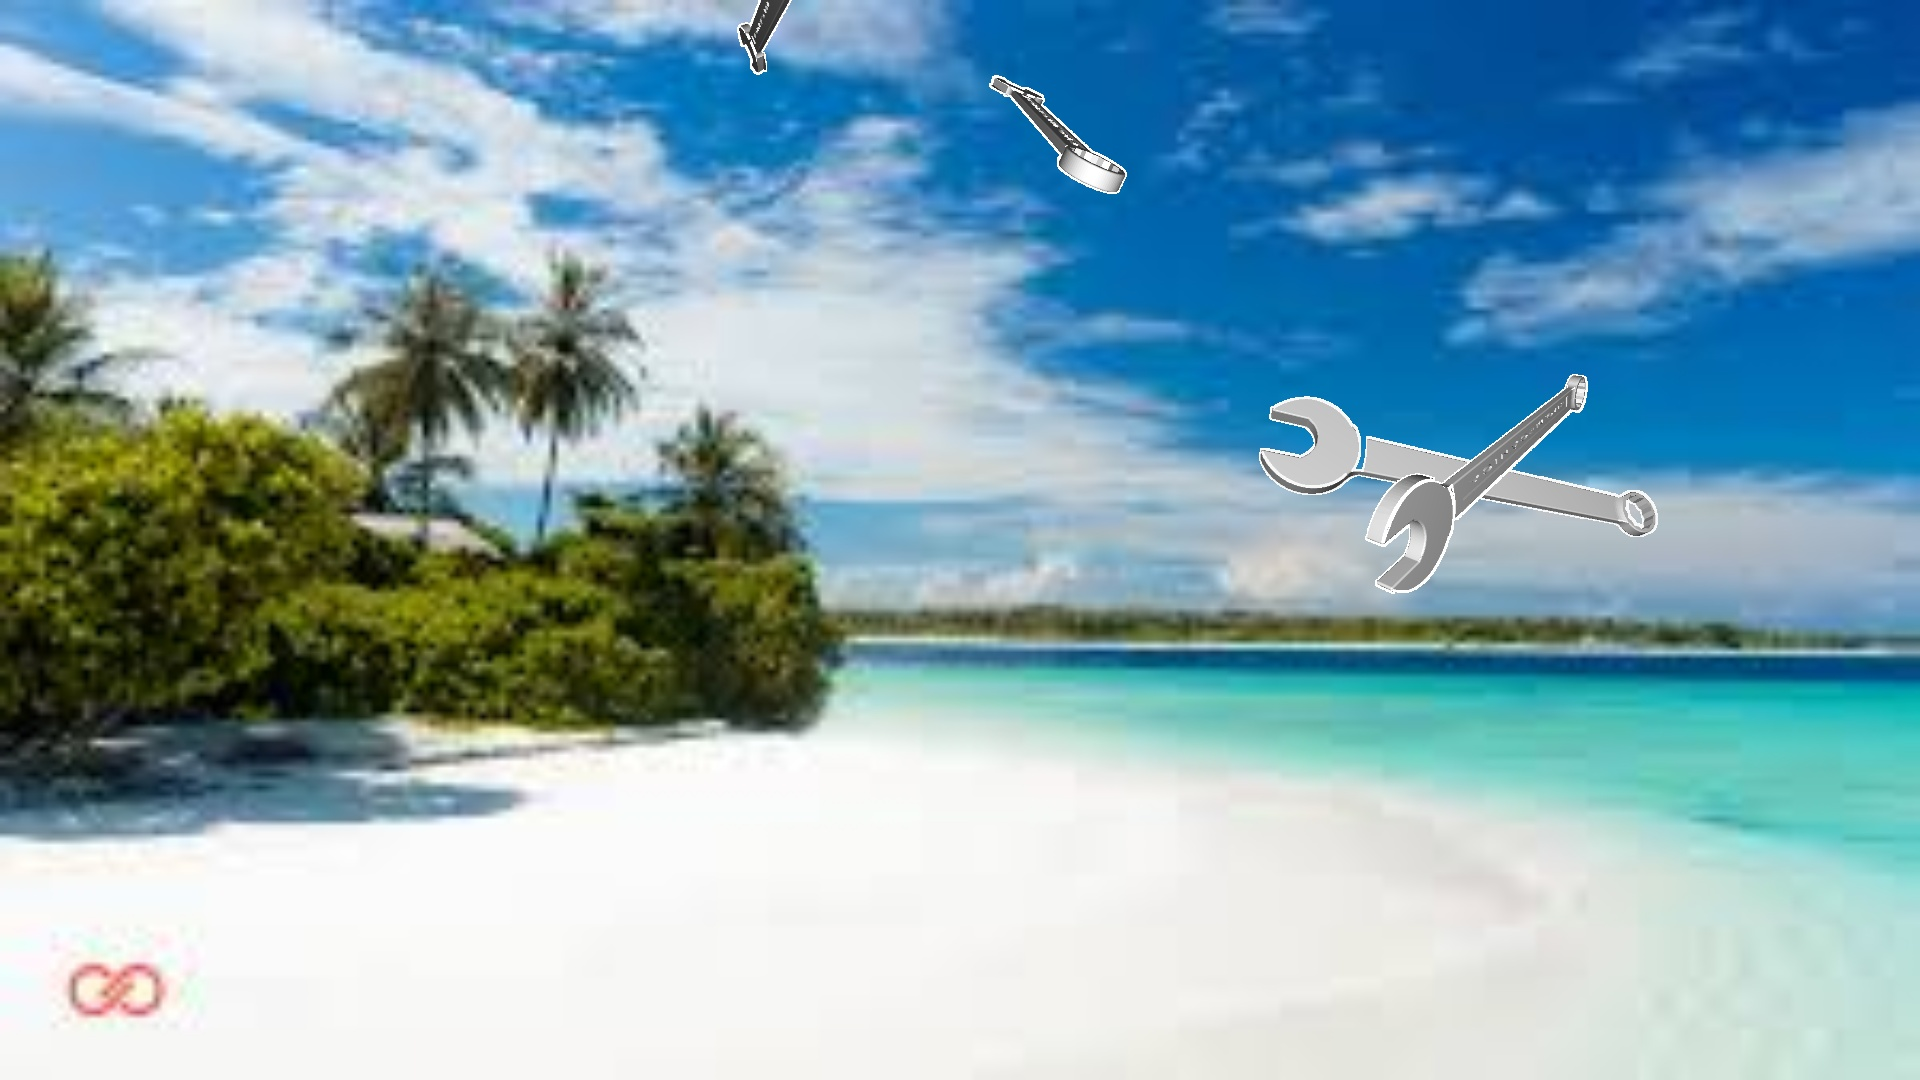Mixed Key: (1259, 396, 1658, 535), (1365, 375, 1586, 593), (989, 75, 1126, 193), (737, 0, 791, 74)
